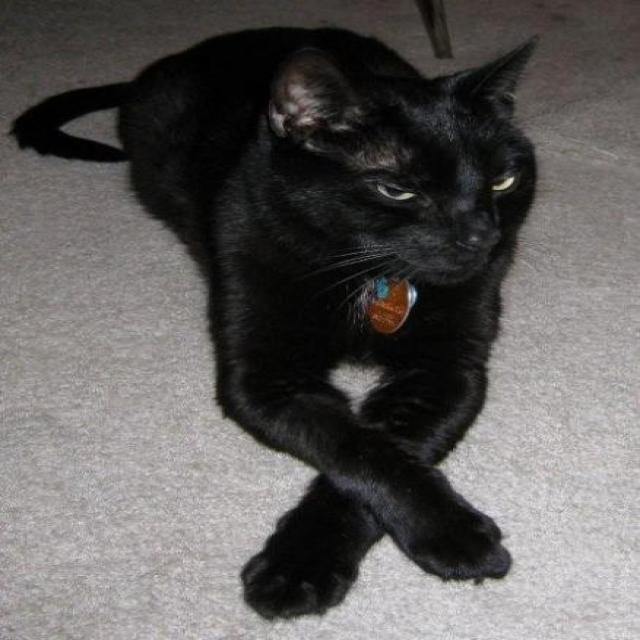Bombay: (256, 35, 535, 283)
